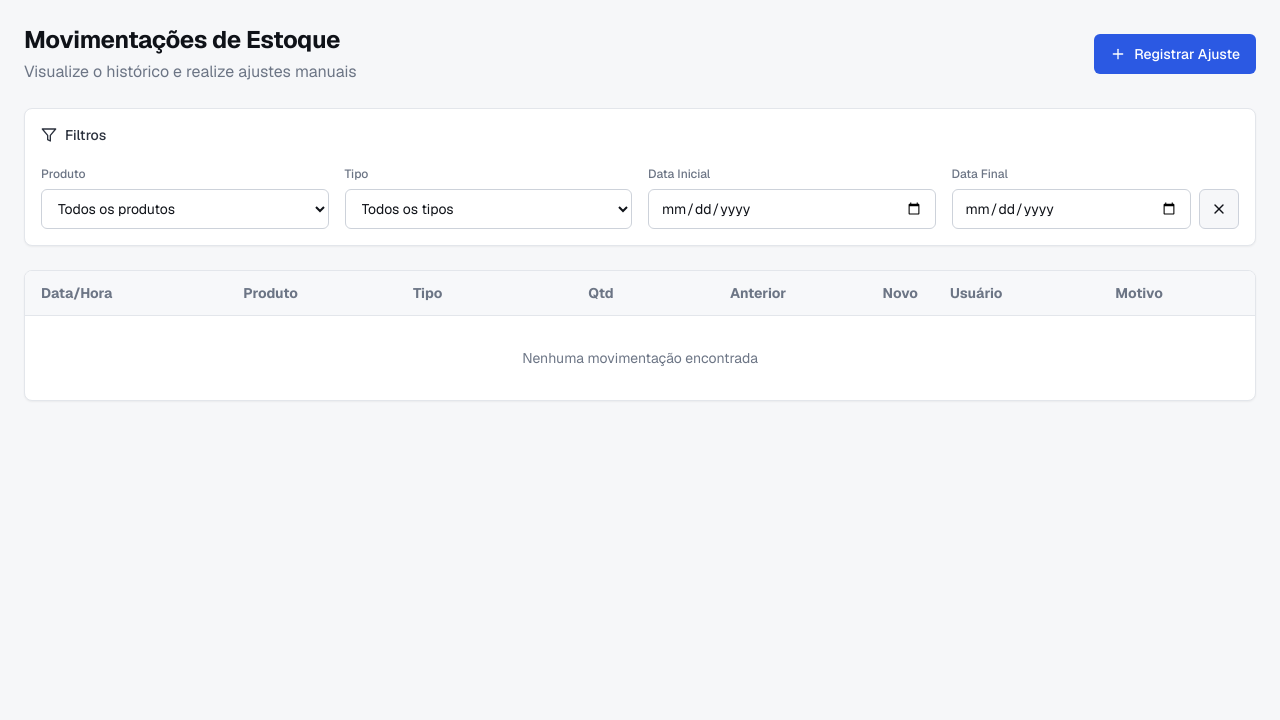
Test: MovimentacoesEstoque — ajuste manual › 19. modal de ajuste oferece só os 4 tipos permitidos
Click the button "Registrar Ajuste" at [1175, 54], box 1094,34 -> 1256,74
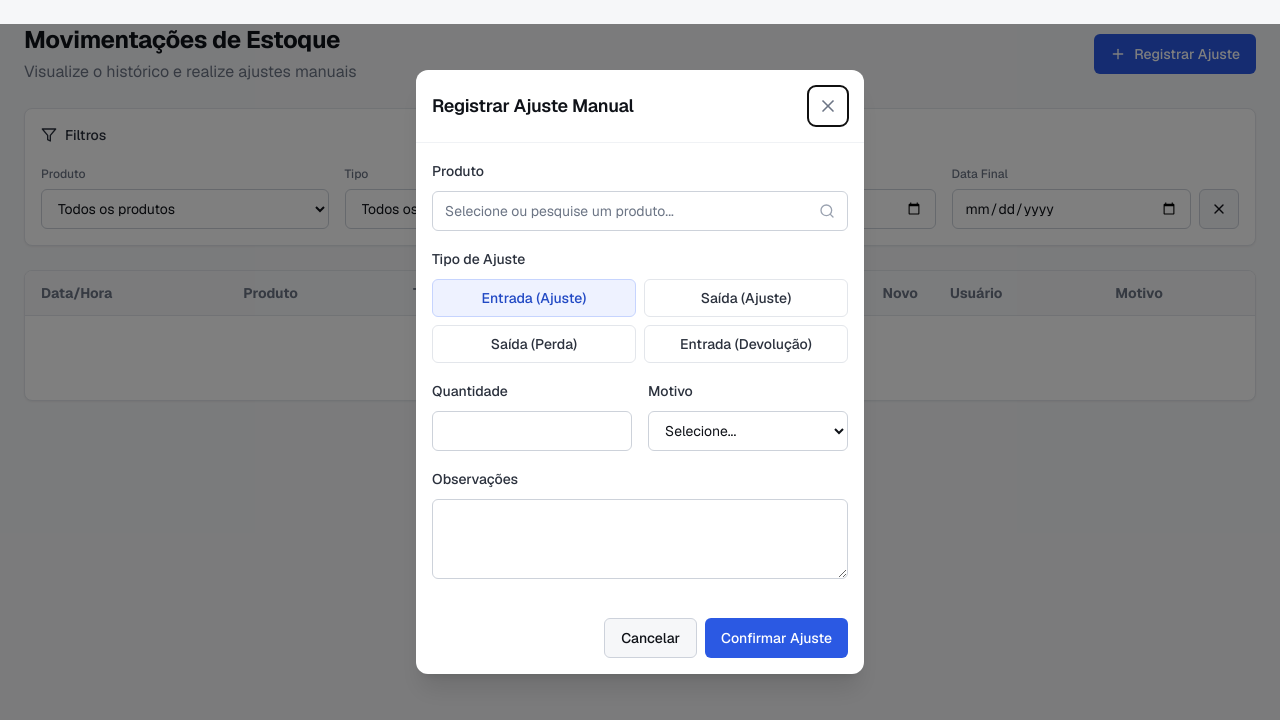
Now the button "Entrada (Ajuste)" is shown, box 432,279 -> 636,317
Now the button "Saída (Ajuste)" is shown, box 644,279 -> 848,317
Now the button "Saída (Perda)" is shown, box 432,325 -> 636,363
